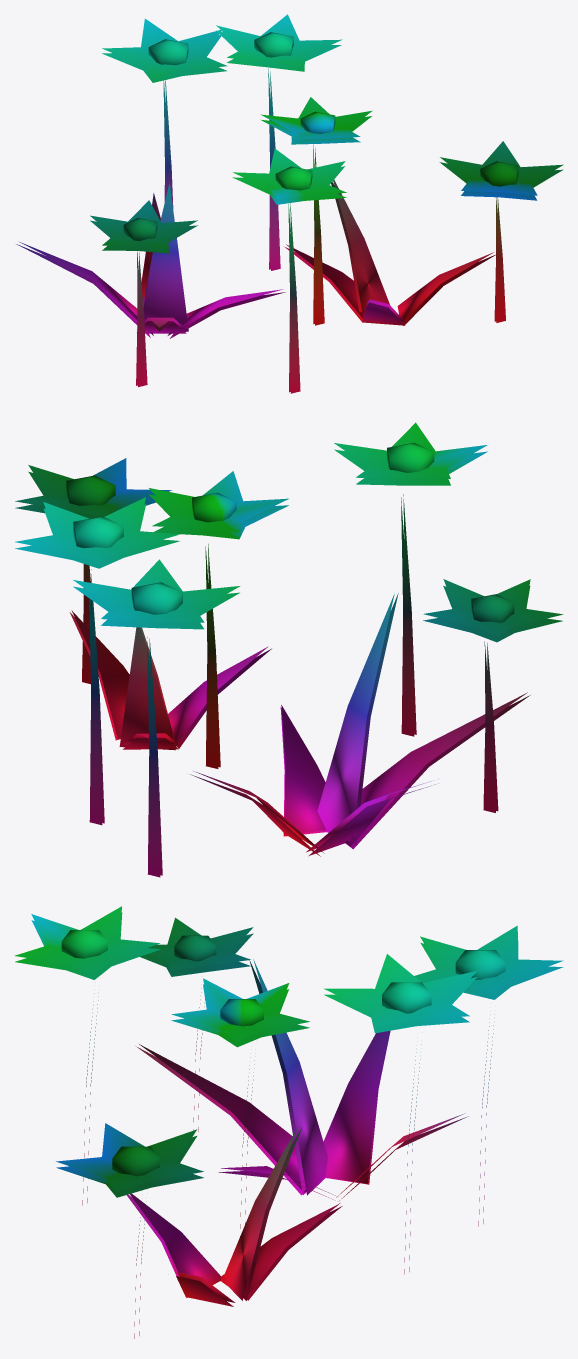
File: SM_Foliage_Plains_FlowerPatch_A.fbx
3 renders of one model, top to bottom at view 1: azimuth 30°, elevation 25°; view 2: azimuth 150°, elevation 25°; view 3: azimuth 270°, elevation 25°, orthographic. The views are drawn at different scales.
Parts seen in each view (by area): view 1: SM_Foliage_Plains_FlowerPatch_A; view 2: SM_Foliage_Plains_FlowerPatch_A; view 3: SM_Foliage_Plains_FlowerPatch_A.
Part boxes in pixels (x1,y1,x2,y2): SM_Foliage_Plains_FlowerPatch_A: (16,14,563,393); SM_Foliage_Plains_FlowerPatch_A: (15,422,563,877); SM_Foliage_Plains_FlowerPatch_A: (14,906,563,1338).
Size of the model in its own units: 0.542 by 0.2793 by 0.4781.
